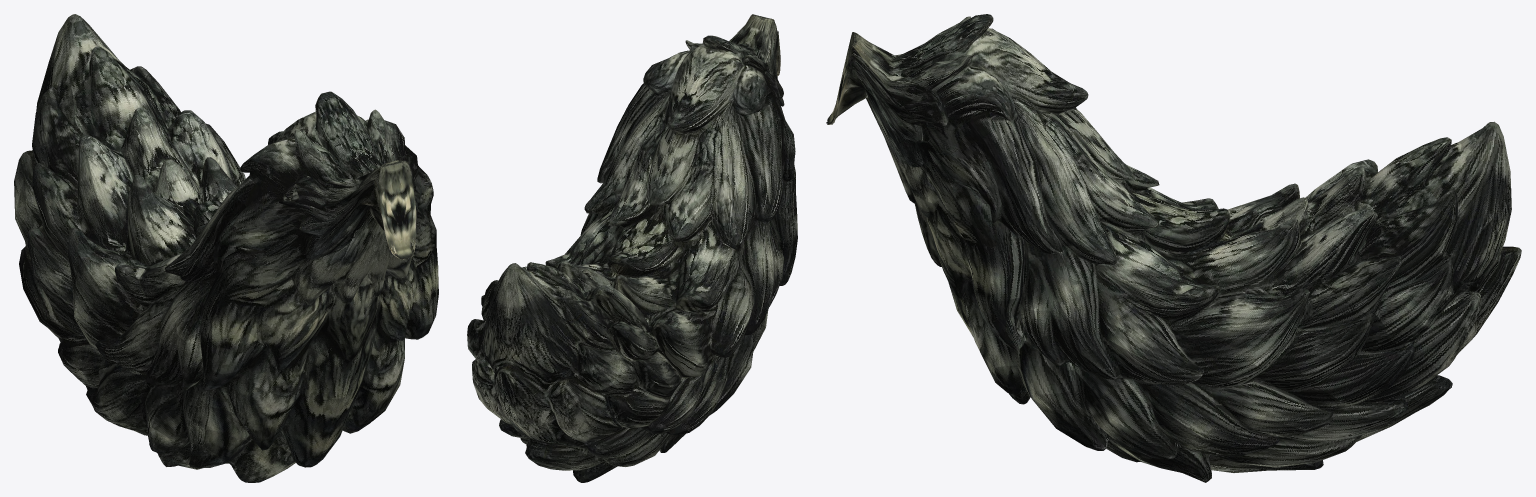
File: ewm_wolftail_furb.glb
3 renders of one model, left to right at view 1: azimuth 30°, elevation 25°; view 2: azimuth 150°, elevation 25°; view 3: azimuth 270°, elevation 25°, orthographic. The views are drawn at different scales.
Visible parts, largest first — view 1: ewm_wolftail_furb; view 2: ewm_wolftail_furb; view 3: ewm_wolftail_furb.
Boxes of the visible parts, left/top/right/bottom form: ewm_wolftail_furb: left=14, top=14, right=438, bottom=482; ewm_wolftail_furb: left=467, top=14, right=797, bottom=482; ewm_wolftail_furb: left=826, top=14, right=1521, bottom=482.
Size of the model in its own units: 0.2279 by 0.3947 by 0.55.
Materials: 1 (1 with a texture image).
